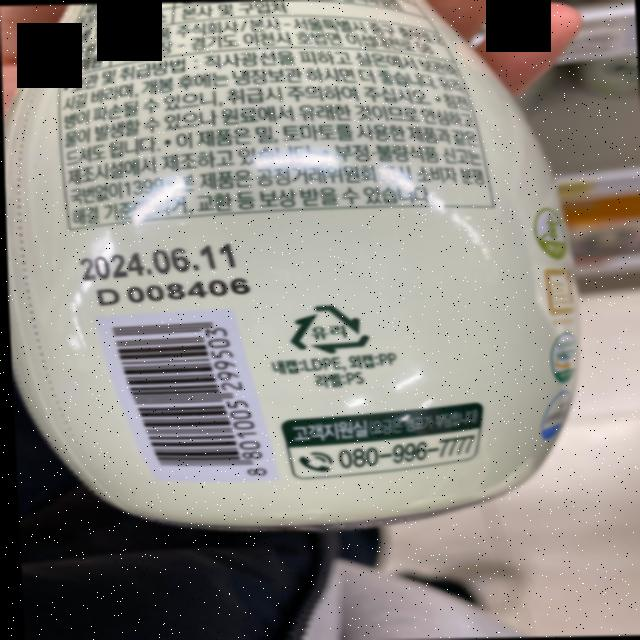Glass: (283, 300, 371, 354)
